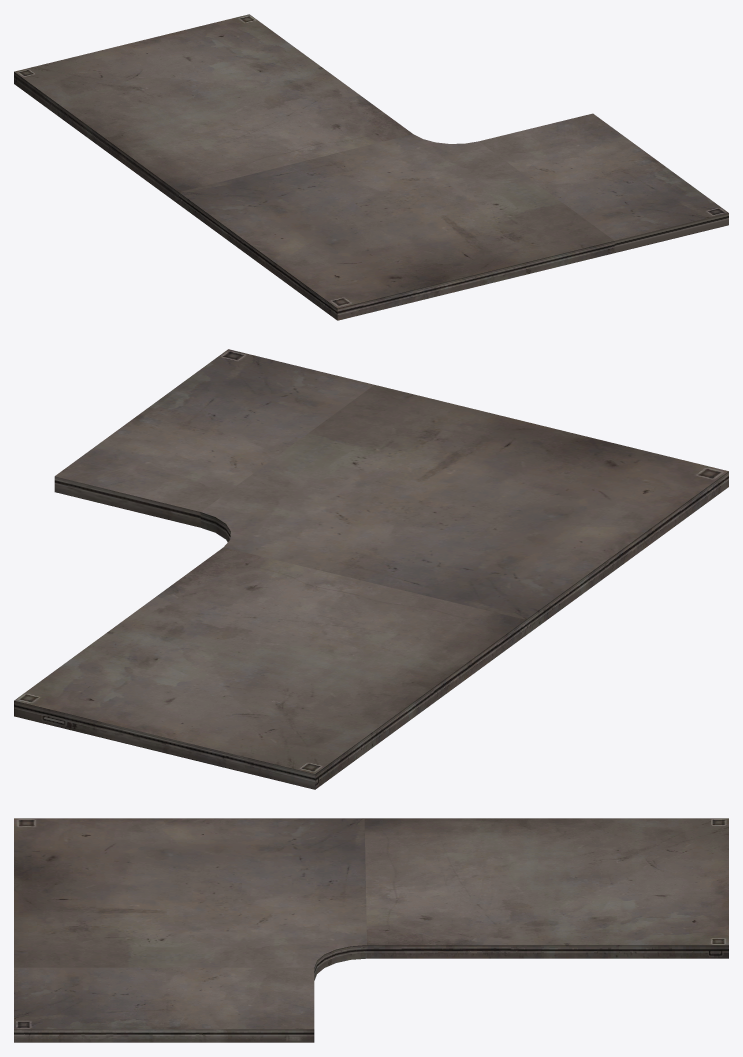
File: tabletop_lab_large_curved.dae
The picture shows the model from 3 angles, top to bottom: view 1: azimuth 30°, elevation 25°; view 2: azimuth 150°, elevation 25°; view 3: azimuth 270°, elevation 25°; orthographic projection. The views are drawn at different scales.
Parts seen in each view (by area): view 1: curved; view 2: curved; view 3: curved.
Part boxes in pixels (x1=…): curved: x1=14, y1=14, x2=728, y2=320; curved: x1=14, y1=349, x2=728, y2=789; curved: x1=14, y1=818, x2=728, y2=1042.
Size of the model in its own units: 2.54 by 0.0761 by 3.64.
